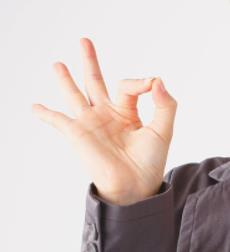left: (27, 37, 180, 189)
